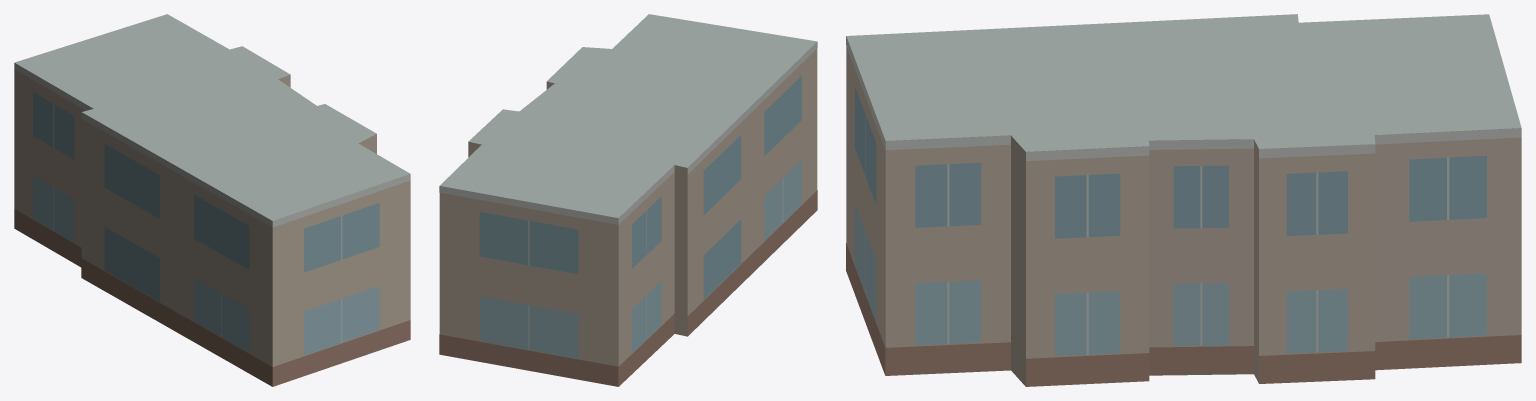
Rendered from survey-upis-32934011.glb.
3 views of the same model, side by side, from view 1: azimuth 30°, elevation 25°; view 2: azimuth 150°, elevation 25°; view 3: azimuth 270°, elevation 25° (orthographic). The views are drawn at different scales.
Visible parts, largest first — view 1: survey-upis-32934011.tmp; view 2: survey-upis-32934011.tmp; view 3: survey-upis-32934011.tmp.
Boxes of the visible parts, bbox=[...] form: survey-upis-32934011.tmp: bbox=[14, 14, 410, 386]; survey-upis-32934011.tmp: bbox=[439, 14, 817, 386]; survey-upis-32934011.tmp: bbox=[846, 14, 1521, 386].
Bounding box in the file's own units: 7.68 × 6.1 × 15.9.
